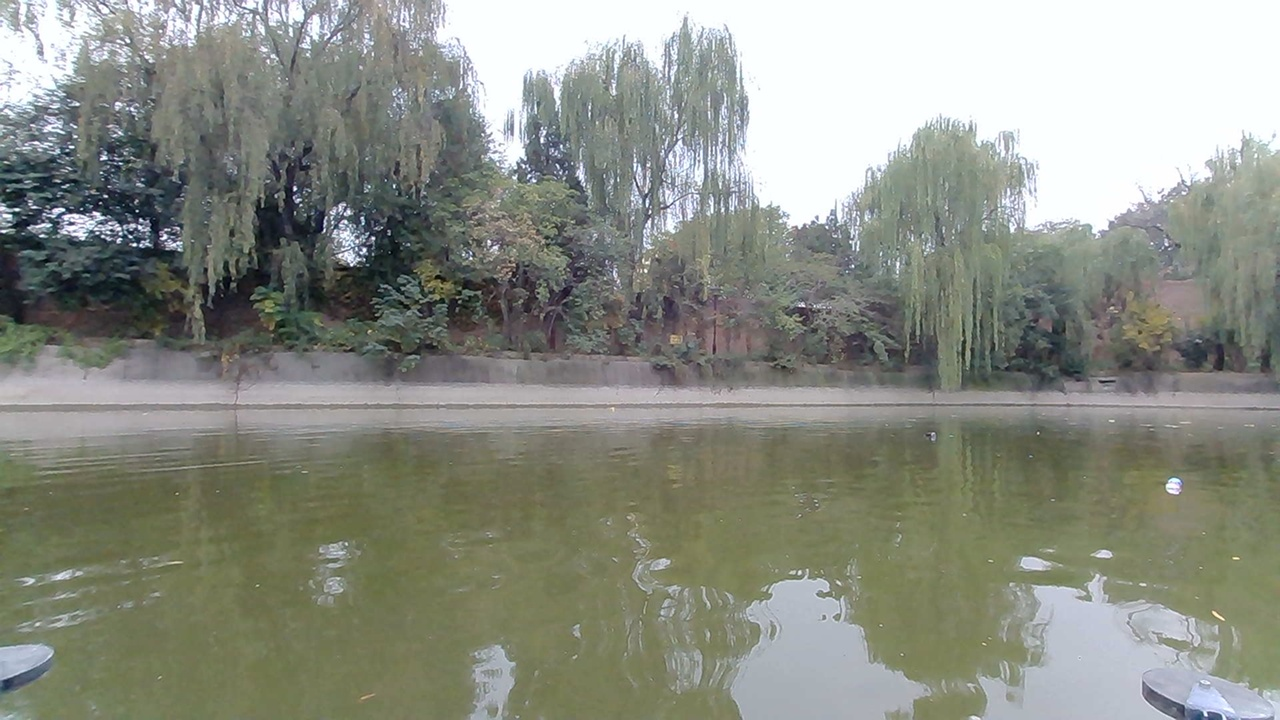bottle: (1156, 471, 1195, 500), (916, 422, 944, 448)
